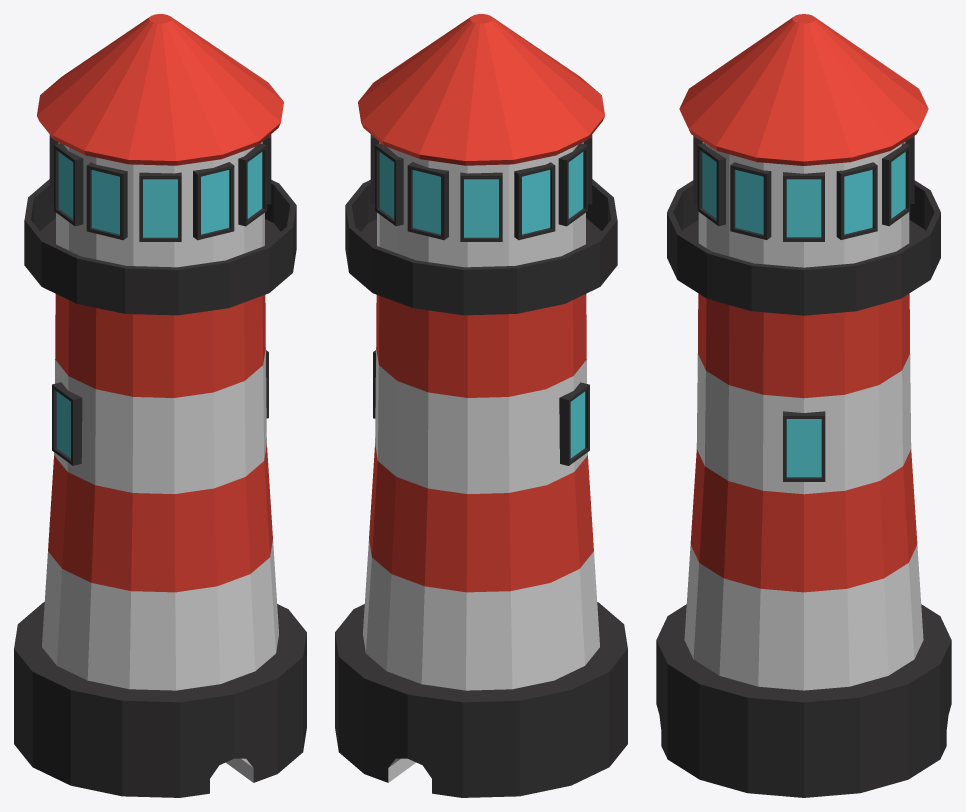
Rendered from Lighthouse.fbx.
3 views of the same model, side by side, from view 1: azimuth 30°, elevation 25°; view 2: azimuth 150°, elevation 25°; view 3: azimuth 270°, elevation 25° (orthographic).
Visible parts, largest first — view 1: Lighthouse; view 2: Lighthouse; view 3: Lighthouse.
Boxes of the visible parts, x1,y1,x2,y2 form: Lighthouse: [14, 14, 306, 797]; Lighthouse: [335, 14, 627, 797]; Lighthouse: [656, 14, 951, 797].
Bounding box in the file's own units: 56 × 150 × 56.
